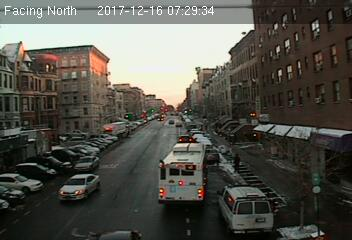bus: (158, 142, 208, 204)
car: (56, 175, 100, 198), (75, 155, 100, 171)
police: (215, 181, 275, 240)
